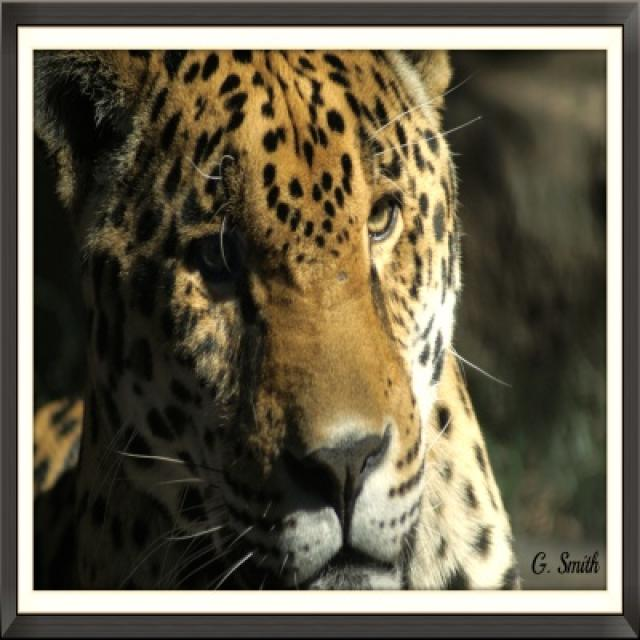Jaguar: (30, 50, 517, 592)
